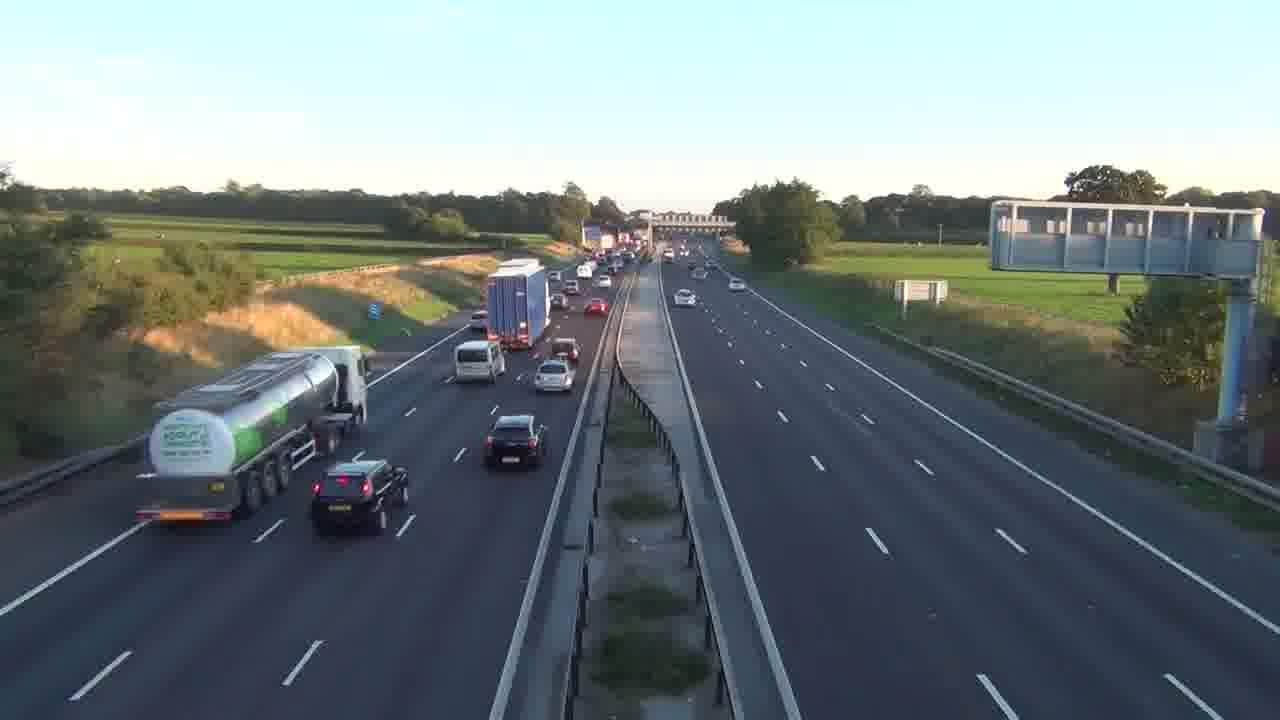bus: (147, 351, 341, 525)
car: (310, 458, 409, 536), (533, 359, 574, 395), (583, 298, 609, 317), (673, 287, 697, 307)
truck: (482, 258, 551, 351), (453, 339, 505, 384)
